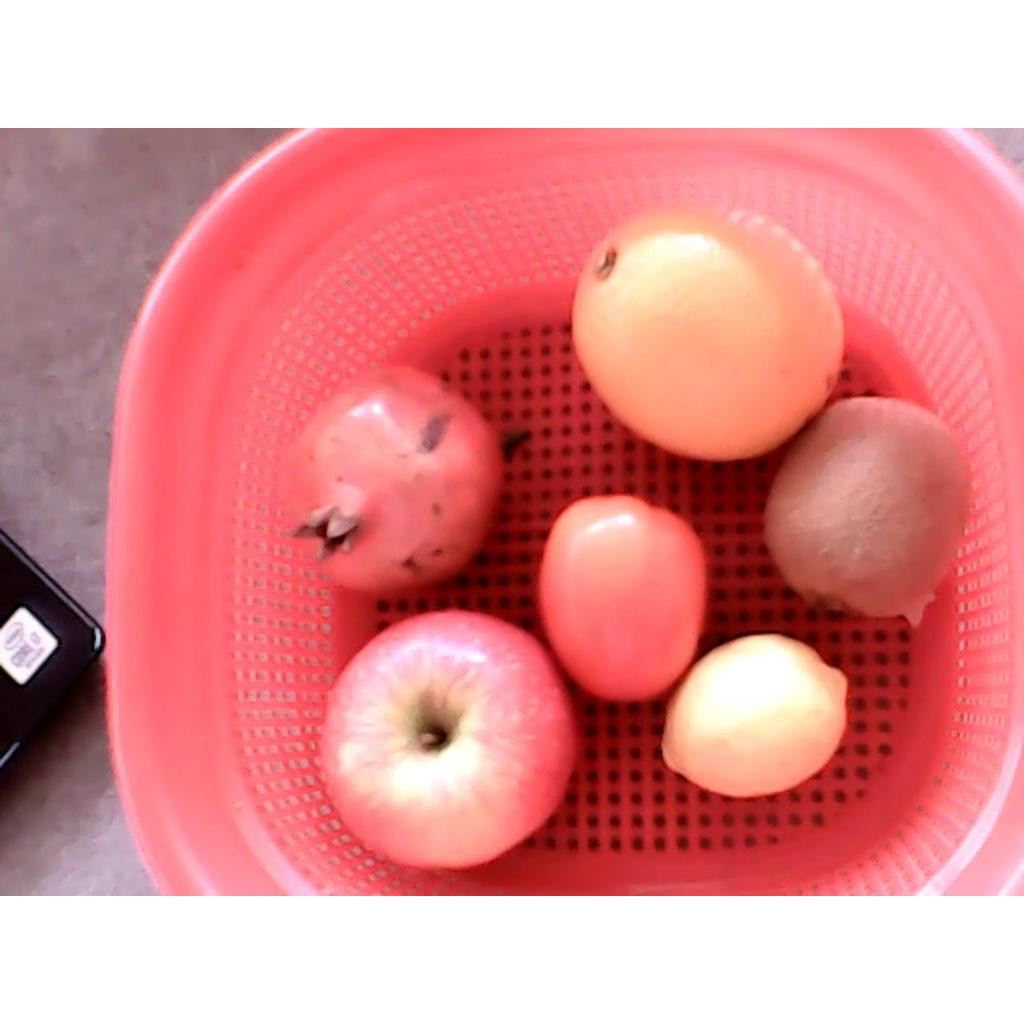apple: (316, 612, 576, 867)
kiwi: (765, 393, 975, 618)
lemon: (661, 634, 844, 796)
orange: (575, 200, 842, 459)
pomegranate: (276, 365, 505, 589)
tomato: (540, 495, 708, 702)
